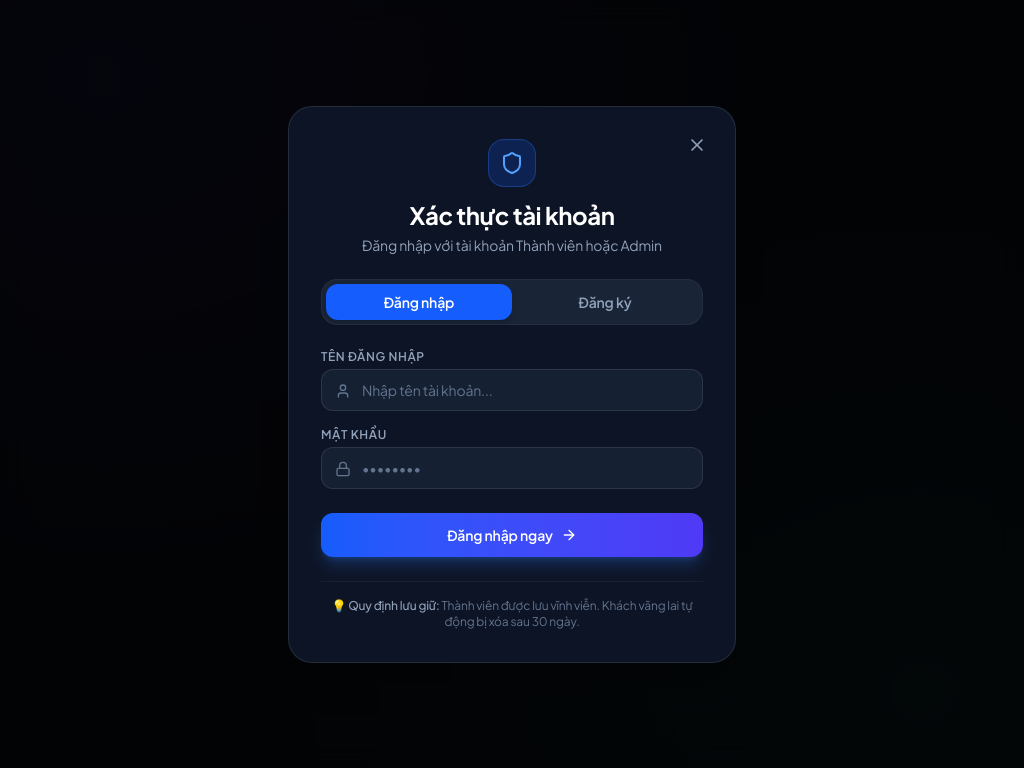
it: AuthModal Component › switches between Login and Register tabs
Click the button "Đăng ký" at (605, 302), box [512,284,698,320]
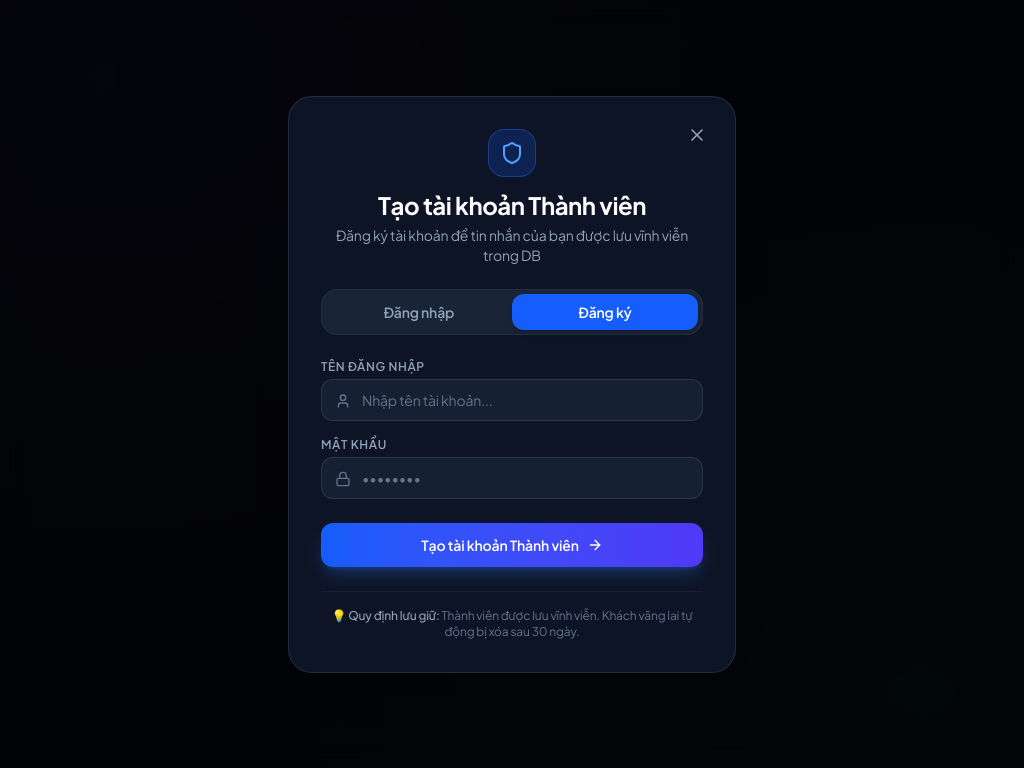
Expected: the heading "Tạo tài khoản Thành viên" is shown, [378,190,646,220]
